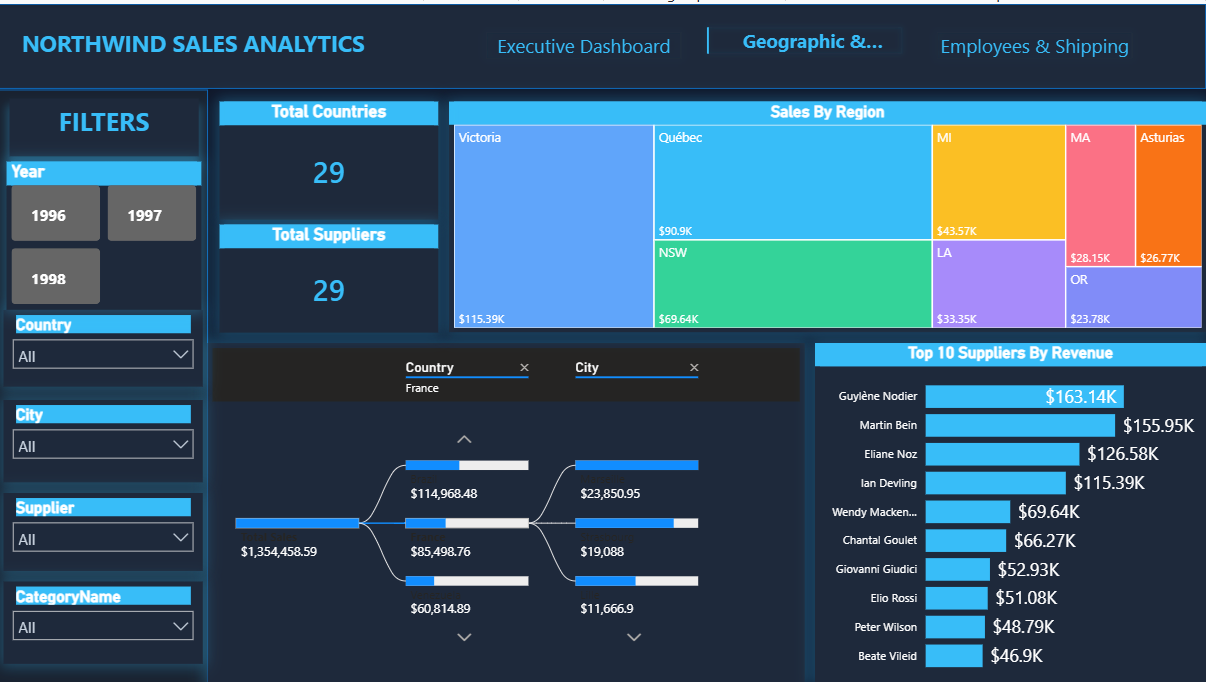

The dashboard page shown, as its layout file describes it:
{"tool":"powerbi","page":{"name":"Geographic & Supplier ","canvas":[1280,720],"ordinal":1},"visuals":[{"type":"shape","box":[0,0,1280,90],"z":0},{"type":"shape","box":[0,90,221.7,630],"z":1000},{"type":"decompositionTreeVisual","fields":{"ExplainBy":["Customers.Country","Customers.City"],"Analyze":["Sum(OrderDetails.Total Sales)"]},"box":[221.1,359.5,633.1,361.1],"z":2000},{"type":"treemap","title":"Sales By Region","fields":{"Group":["Suppliers.Region"],"Values":["Sum(OrderDetails.Total Sales)"]},"box":[477.2,103.4,803.3,245],"z":3000},{"type":"barChart","title":"Top 10 Suppliers By Revenue","fields":{"Category":["Suppliers.ContactName"],"Y":["Sum(OrderDetails.Total Sales)"]},"box":[865.3,359.5,415.1,361.1],"z":4000},{"type":"cardVisual","title":"Total Countries","fields":{"Data":["CountNonNull(Suppliers.Country)"]},"box":[233.8,103.4,232.2,125.7],"z":5000},{"type":"cardVisual","title":"Total Suppliers","fields":{"Data":["CountNonNull(Suppliers.SupplierID)"]},"box":[233.8,233.8,232.2,114.5],"z":6000},{"type":"textbox","box":[19.4,19.4,385.4,51.8],"z":7000},{"type":"textbox","box":[11.3,100.4,200.8,61.5],"z":8000},{"type":"pageNavigator","box":[505.2,19.4,709.2,50.2],"z":9000},{"type":"slicer","fields":{"Values":["Suppliers.Country"]},"box":[4.8,324.5,211.6,81.1],"z":10000},{"type":"slicer","fields":{"Values":["Suppliers.City"]},"box":[4.8,419.9,211.6,87.5],"z":11000},{"type":"slicer","fields":{"Values":["Suppliers.ContactName"]},"box":[4.8,518.5,211.6,82.7],"z":12000},{"type":"slicer","fields":{"Values":["Categories.CategoryName"]},"box":[4.8,612.4,211.6,87.5],"z":13000},{"type":"advancedSlicerVisual","fields":{"Values":["Orders.OrderDate.Variation.Date Hierarchy.Year"]},"box":[8,167,206.8,157.5],"z":14000}]}

Visuals, with their boxes in screenshot pixels (x1, y1, x2, y2), scaled from the page's 1280x720 canvas onto the 1206x682 screenshot:
shape: 0:0:1205:85
shape: 0:85:209:681
decompositionTreeVisual - Customers.Country x Customers.City: 208:341:805:681
"Sales By Region" treemap: 450:98:1205:330
"Top 10 Suppliers By Revenue" barChart: 815:341:1205:681
"Total Countries" cardVisual: 220:98:439:217
"Total Suppliers" cardVisual: 220:221:439:330
textbox: 18:18:381:67
textbox: 11:95:200:153
pageNavigator: 476:18:1144:66
slicer - Suppliers.Country: 5:307:204:384
slicer - Suppliers.City: 5:398:204:481
slicer - Suppliers.ContactName: 5:491:204:569
slicer - Categories.CategoryName: 5:580:204:663
advancedSlicerVisual - Orders.OrderDate.Variation.Date Hierarchy.Year: 8:158:202:307
